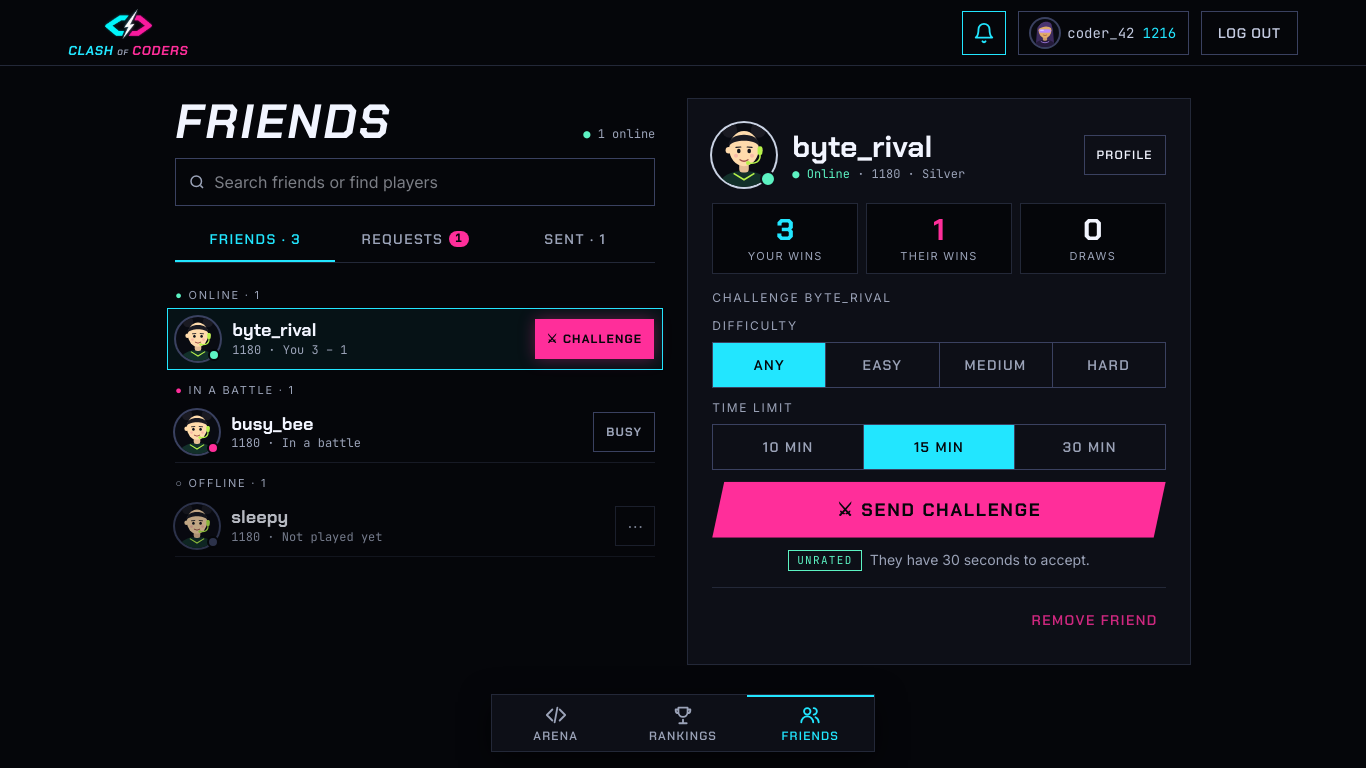
Test case: the Friends page › on a PC shows the selected friend in a side panel
The image size is (1366, 768).
Expected: the element named "Friend details" shows "byte_rival", x1=792 y1=127 x2=932 y2=166
Note: The first friend who can play is shown straight away.
Step 1. Click the button named "More about sleepy" → (635, 526), box x1=615 y1=506 x2=655 y2=546
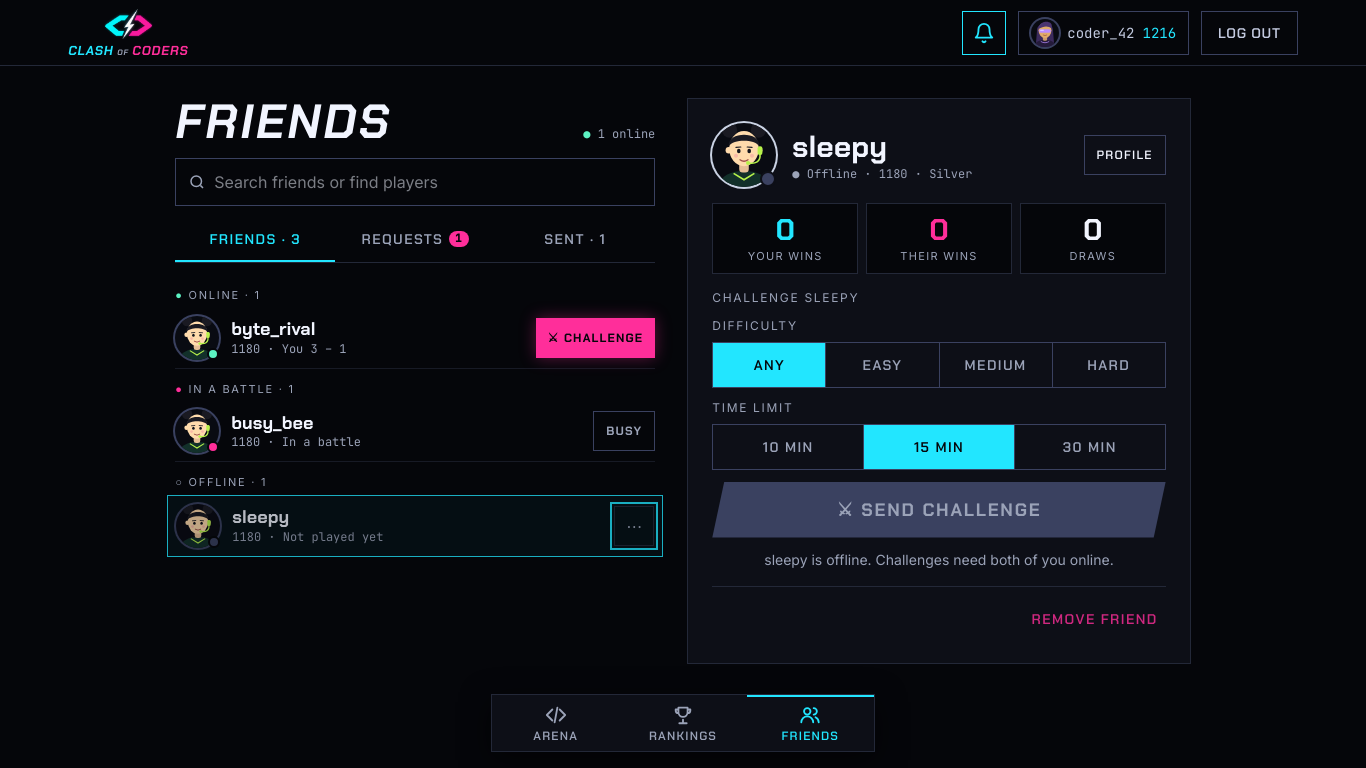
Expected: the heading "sleepy" is shown, x1=792 y1=127 x2=887 y2=166
